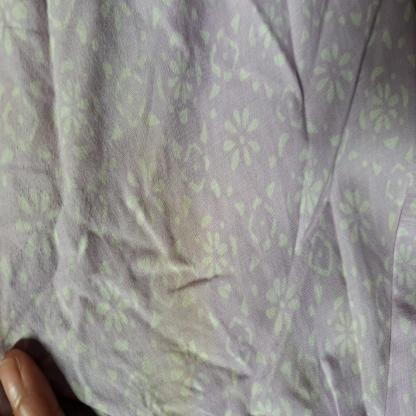spot: (132, 97, 204, 416), (287, 355, 341, 415)
